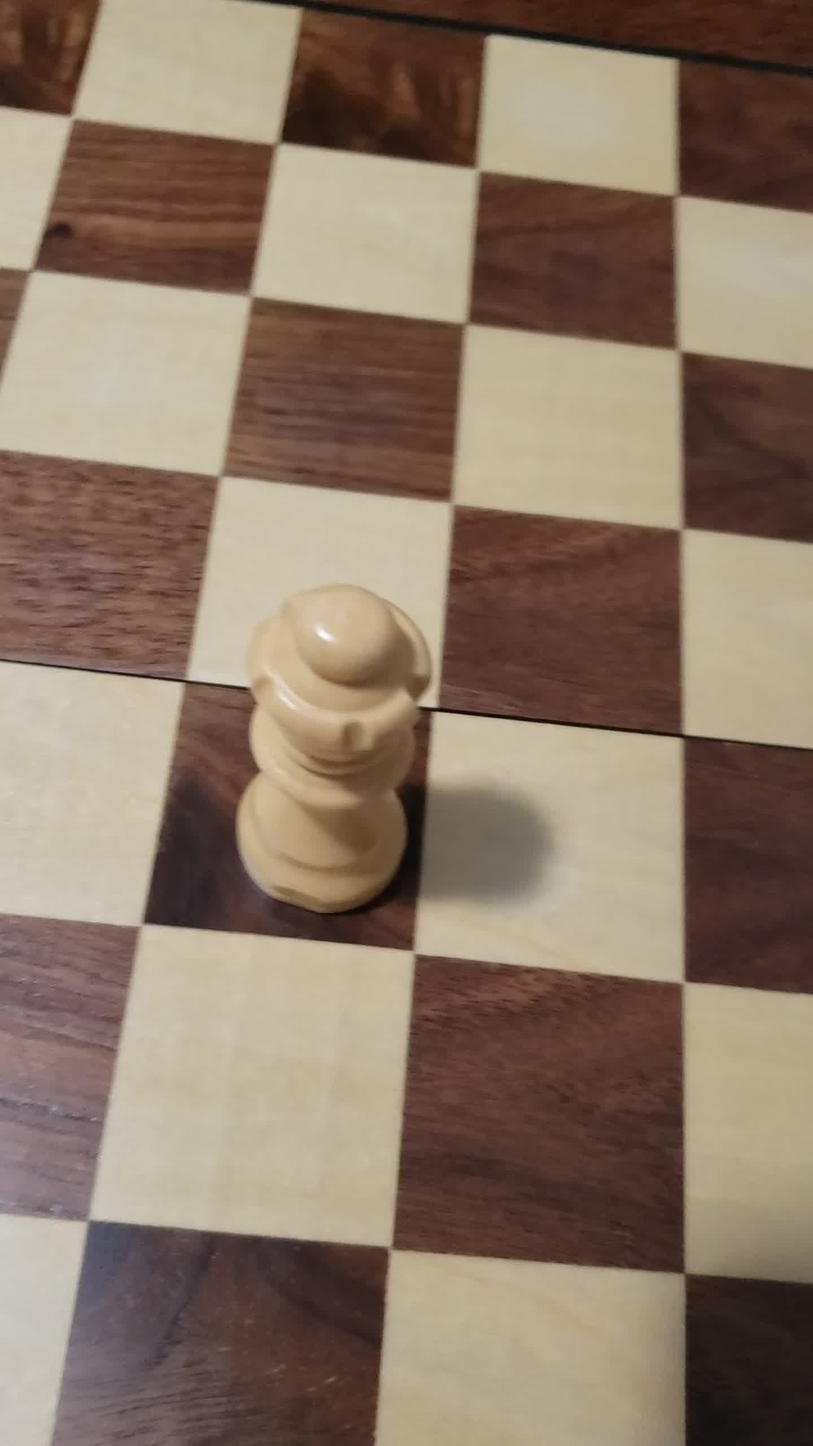white-queen: (183, 574, 458, 953)
